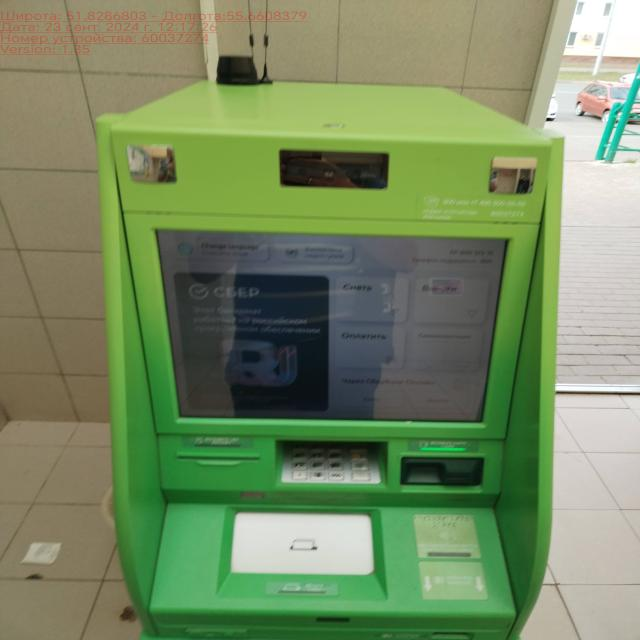bank: (92, 78, 565, 640)
